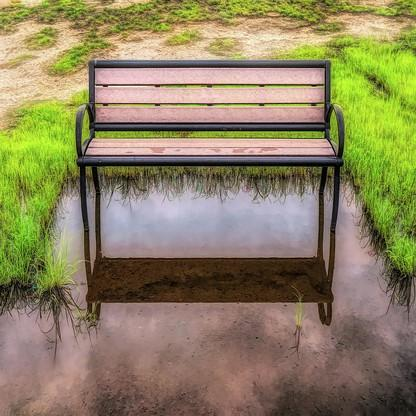obstacle: (65, 49, 356, 227)
